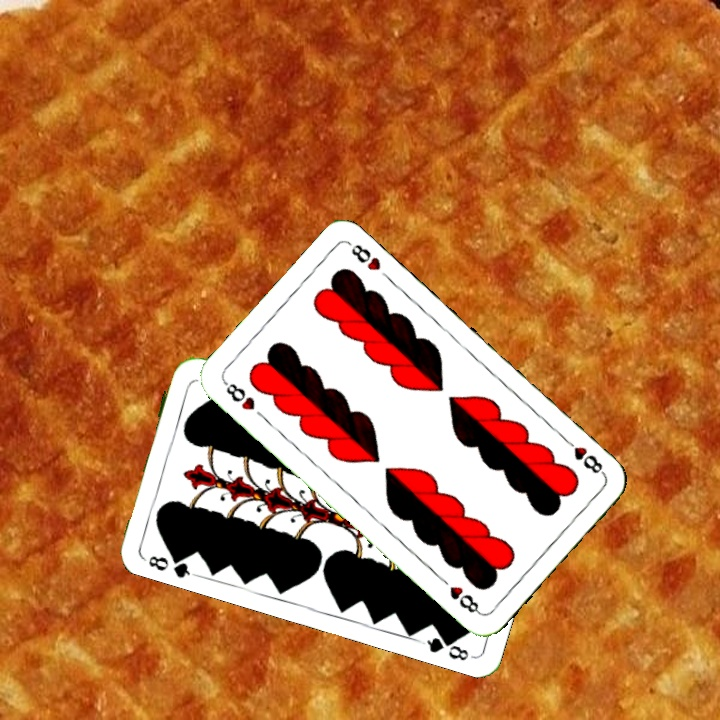G8: (139, 547, 197, 580)
H8: (559, 434, 608, 478), (219, 377, 258, 413)
